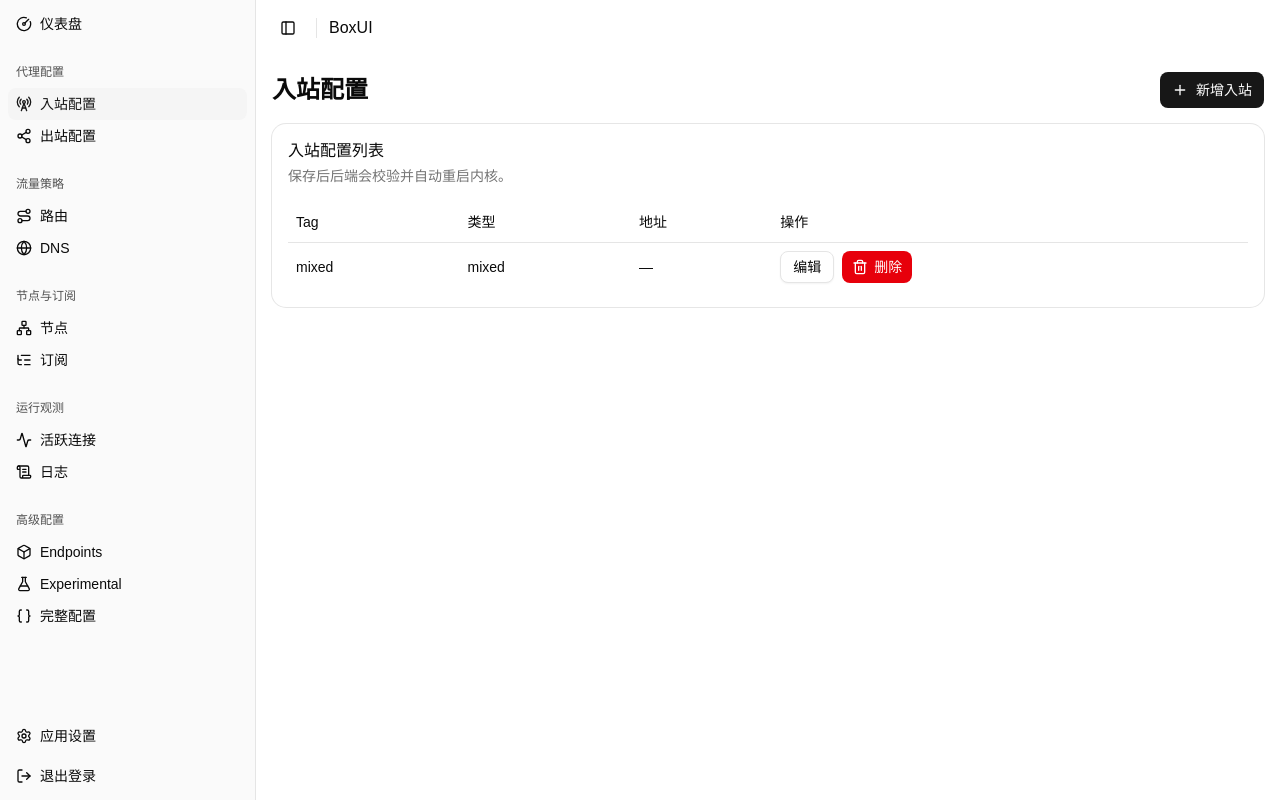
it: proxy alternate states › reports a rolled back save
The image size is (1280, 800).
Click the button "删除": (877, 266) [842,250,912,282]
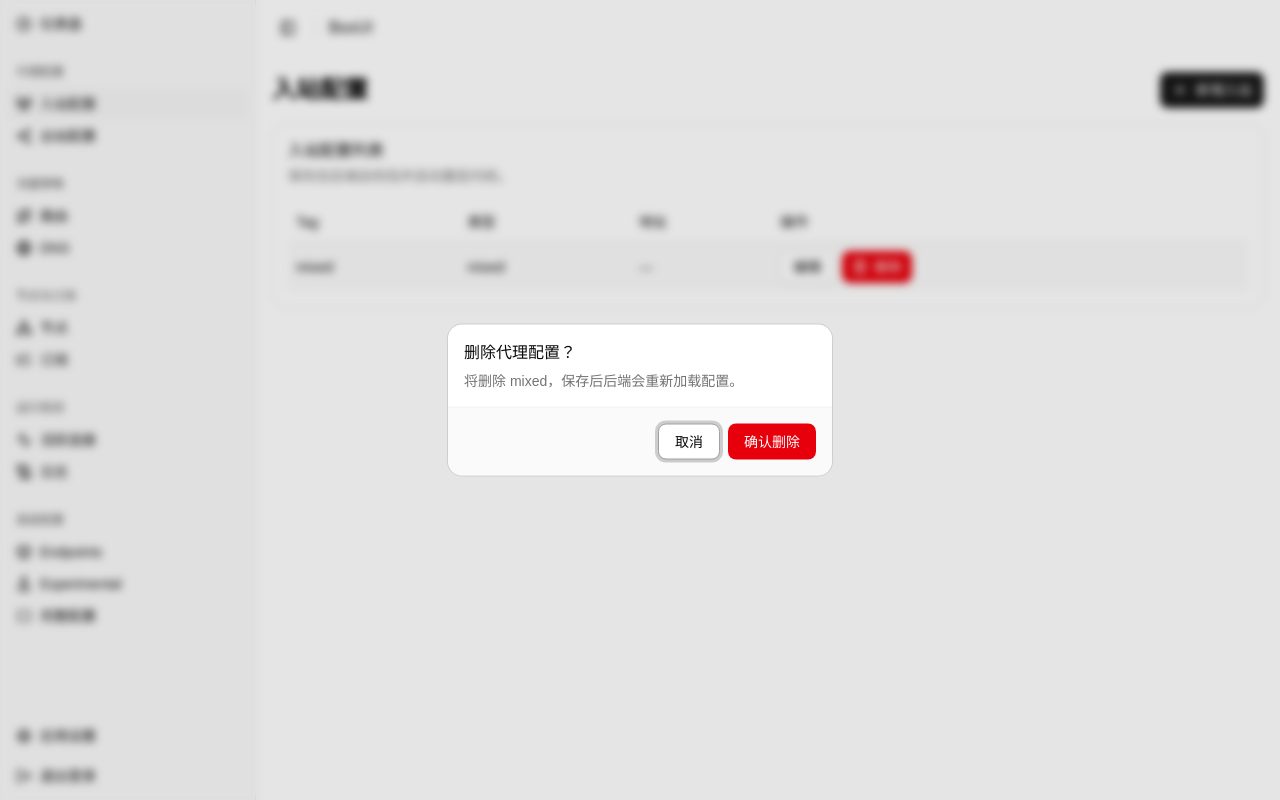
Click the button "确认删除": (772, 442) [728,424,816,460]
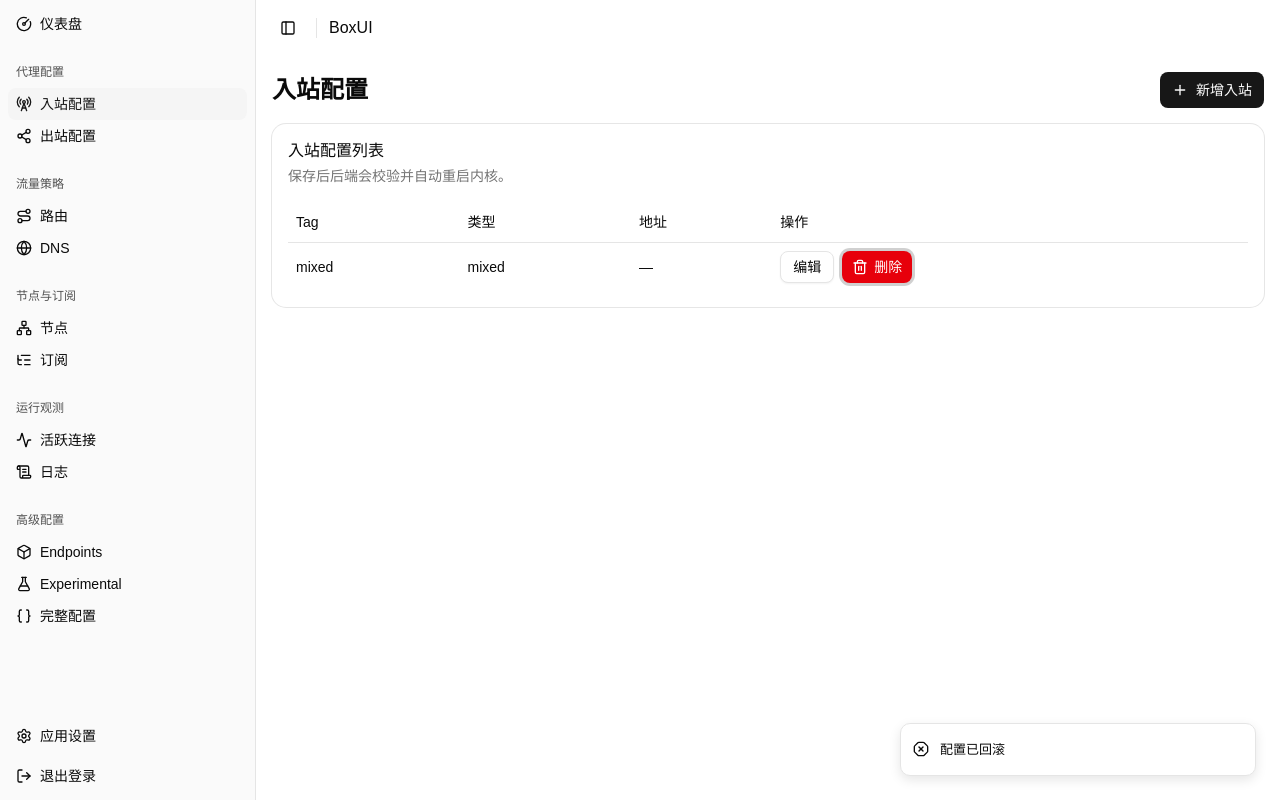
Result: the text "配置已回滚" is shown at [940,740,1005,759]
